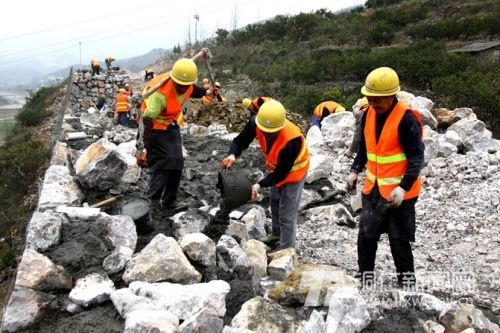yellow: (361, 66, 401, 115), (254, 101, 288, 135), (170, 57, 197, 95), (241, 96, 252, 110)
